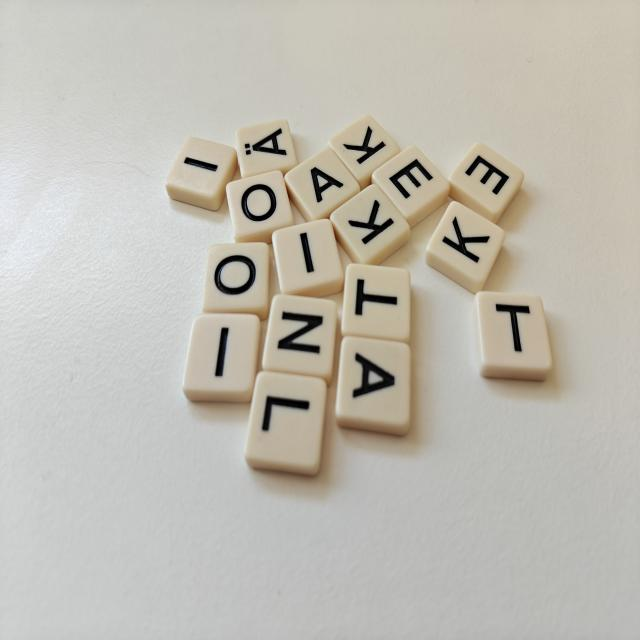a: (335, 336, 410, 435), (284, 147, 360, 222)
a_dot: (236, 119, 297, 178)
e: (372, 146, 450, 227), (449, 142, 524, 223)
i: (183, 313, 261, 402), (272, 219, 344, 297), (166, 138, 237, 210)
k: (426, 201, 505, 294), (330, 185, 410, 265), (328, 115, 400, 189)
l: (245, 371, 326, 475)
n: (262, 294, 337, 385)
o: (202, 242, 270, 319), (226, 171, 293, 243)
t: (473, 291, 552, 380), (341, 264, 411, 342)
